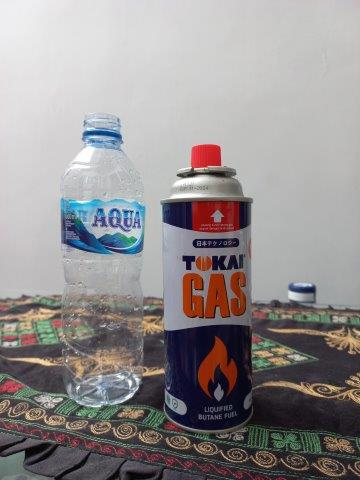botolplastik: (60, 114, 145, 402)
kaleng: (162, 145, 252, 434)
